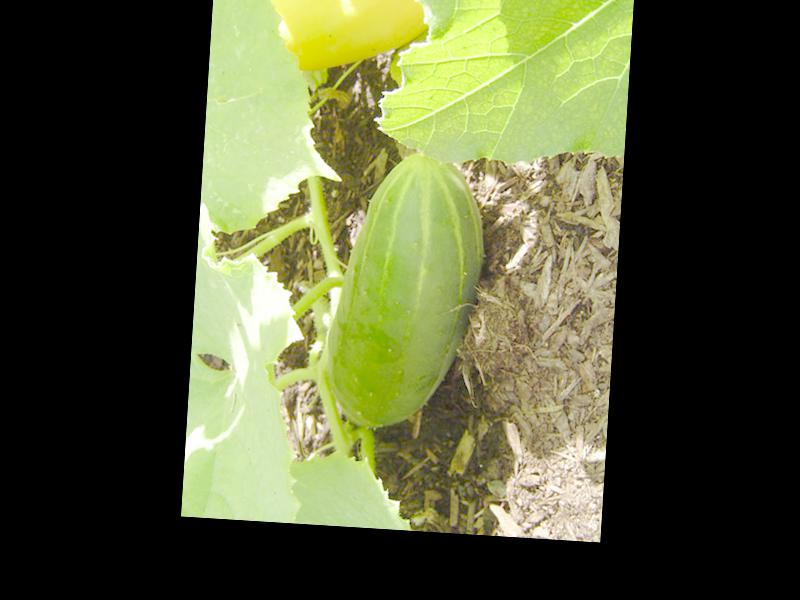Cucumber: (321, 147, 491, 435)
